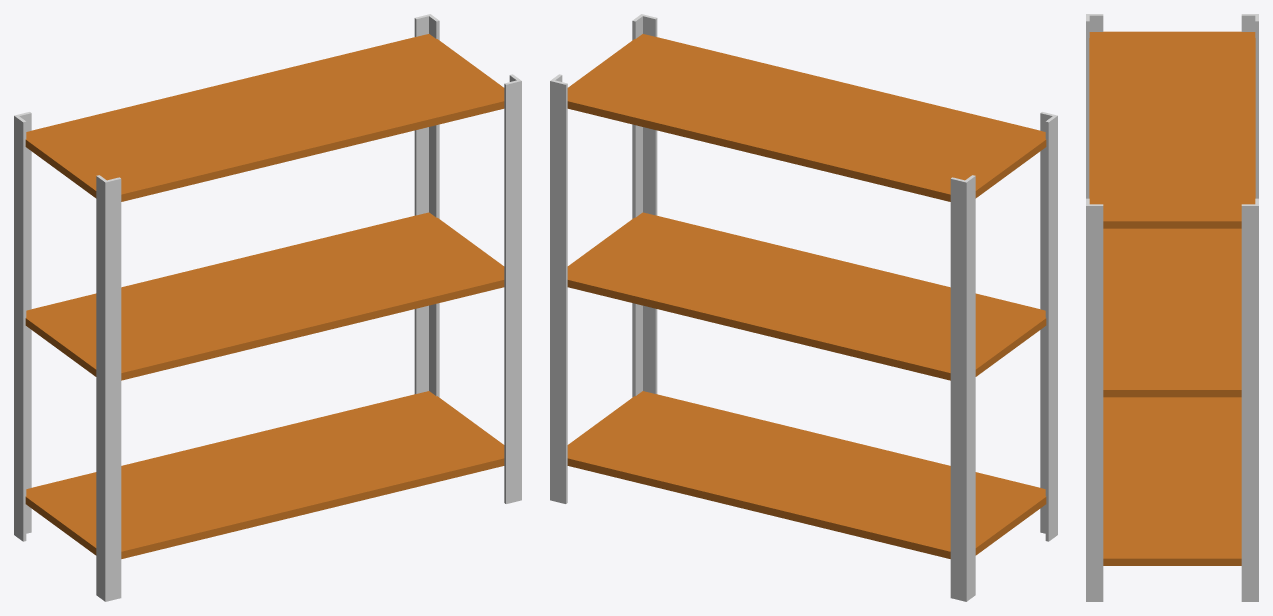
File: Rak 2.fbx
3 views of the same model, side by side, from view 1: azimuth 30°, elevation 25°; view 2: azimuth 150°, elevation 25°; view 3: azimuth 270°, elevation 25° (orthographic). The views are drawn at different scales.
Visible parts, largest first — view 1: Plane.037; view 2: Plane.037; view 3: Plane.037.
Boxes of the visible parts, bbox=[...] form: Plane.037: bbox=[14, 14, 521, 601]; Plane.037: bbox=[550, 14, 1057, 601]; Plane.037: bbox=[1086, 14, 1258, 601].
Bounding box in the file's own units: 1241 × 1194 × 472.
